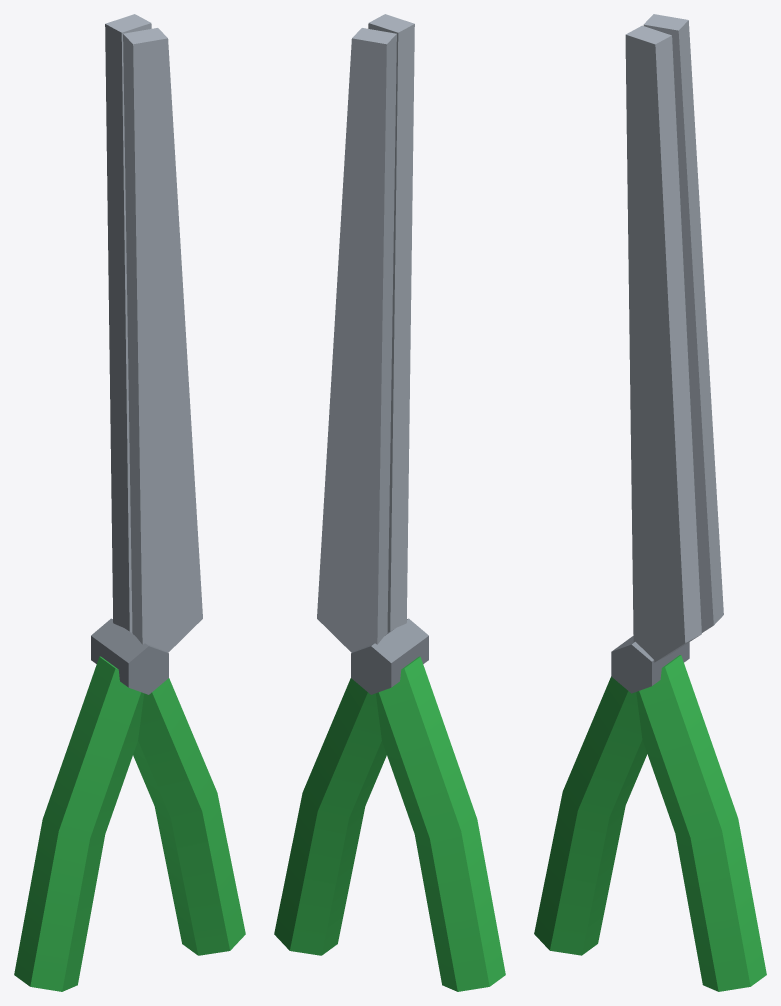
Rendered from Shears.fbx.
The picture shows the model from 3 angles, left to right: view 1: azimuth 30°, elevation 25°; view 2: azimuth 150°, elevation 25°; view 3: azimuth 330°, elevation 25°; orthographic projection.
Parts seen in each view (by area): view 1: Shears; view 2: Shears; view 3: Shears.
Boxes of the visible parts, box(x1,y1,x2,y2) form: Shears: box(14, 14, 245, 991); Shears: box(274, 14, 505, 991); Shears: box(534, 14, 766, 991).
Bounding box in the file's own units: 0.4619 × 1.91 × 0.1429.
Materials: 1 (1 with a texture image).
